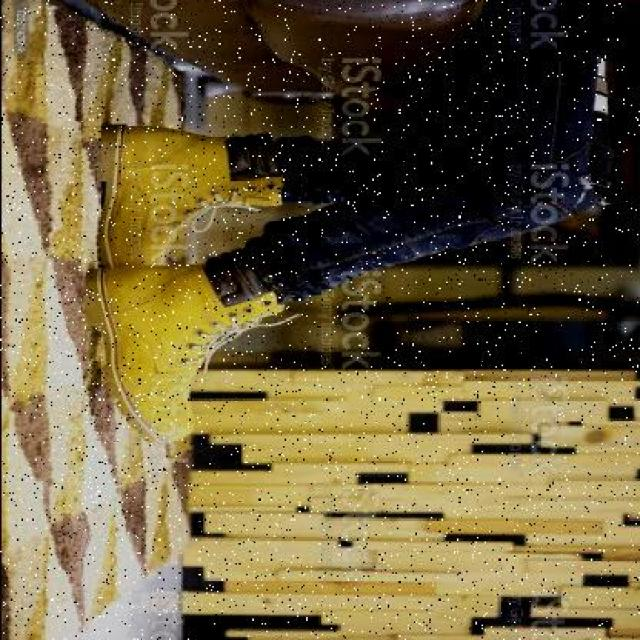shoes: (88, 253, 260, 432), (93, 123, 284, 269)
